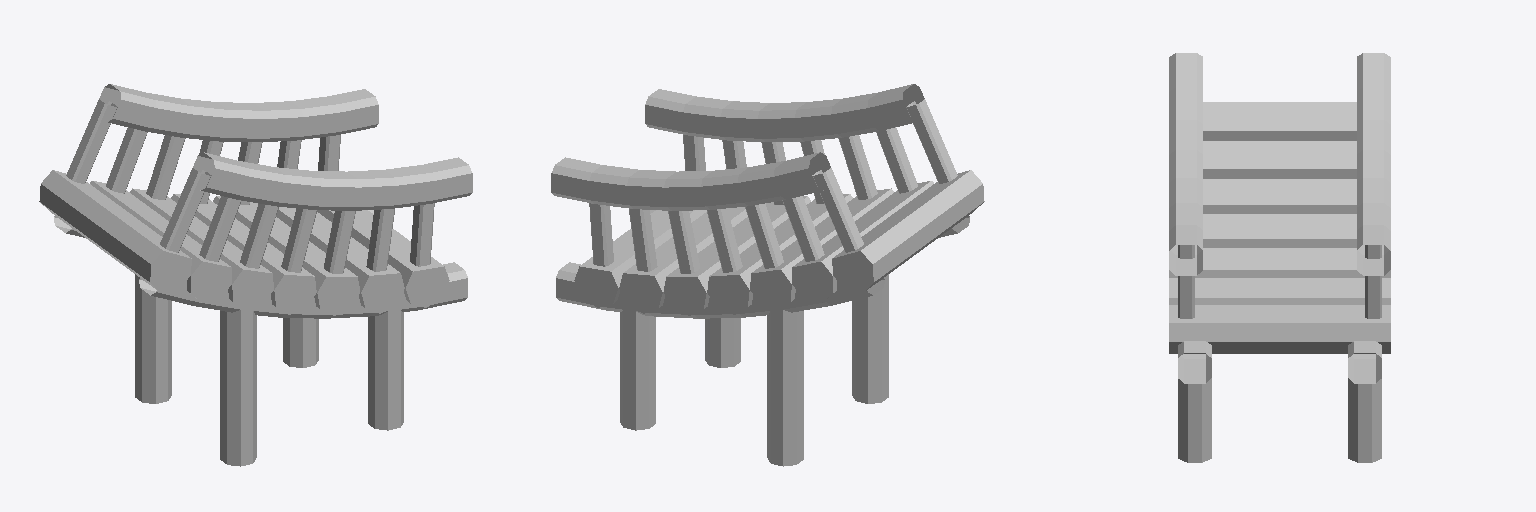
File: Track_Bridge_Incline_Flat_Gentle_Supported.obj
3 renders of one model, left to right at view 1: azimuth 30°, elevation 25°; view 2: azimuth 150°, elevation 25°; view 3: azimuth 270°, elevation 25°, orthographic.
Visible parts, largest first — view 1: Bridge_Rail, Bridge_Rail_Support, Bridge_Pier, Log_Plank_End, Log_Plank_Bark, Log_Plank_Top, Bridge_Support_Beam; view 2: Bridge_Rail, Bridge_Rail_Support, Bridge_Pier, Log_Plank_End, Log_Plank_Bark, Log_Plank_Top, Bridge_Support_Beam; view 3: Log_Plank_Top, Log_Plank_Bark, Bridge_Rail, Bridge_Pier, Bridge_Support_Beam, Bridge_Rail_Support.
Boxes of the visible parts, x1=… form: Bridge_Rail: x1=99, y1=84, x2=472, y2=210; Bridge_Rail_Support: x1=66, y1=99, x2=434, y2=273; Bridge_Pier: x1=135, y1=274, x2=403, y2=466; Log_Plank_End: x1=150, y1=251, x2=449, y2=315; Log_Plank_Bark: x1=39, y1=170, x2=412, y2=308; Log_Plank_Top: x1=54, y1=170, x2=443, y2=276; Bridge_Support_Beam: x1=54, y1=210, x2=467, y2=318; Bridge_Rail: x1=551, y1=84, x2=924, y2=210; Bridge_Rail_Support: x1=589, y1=99, x2=957, y2=273; Bridge_Pier: x1=620, y1=274, x2=888, y2=466; Log_Plank_End: x1=574, y1=251, x2=873, y2=315; Log_Plank_Bark: x1=611, y1=170, x2=984, y2=308; Log_Plank_Top: x1=580, y1=170, x2=969, y2=276; Bridge_Support_Beam: x1=556, y1=210, x2=969, y2=318; Log_Plank_Top: x1=1169, y1=102, x2=1390, y2=322; Log_Plank_Bark: x1=1169, y1=131, x2=1390, y2=353; Bridge_Rail: x1=1169, y1=53, x2=1390, y2=275; Bridge_Pier: x1=1178, y1=378, x2=1381, y2=462; Bridge_Support_Beam: x1=1178, y1=341, x2=1381, y2=383; Bridge_Rail_Support: x1=1178, y1=245, x2=1381, y2=318.
Bounding box in the file's own units: 2.19 × 2.04 × 1.3.